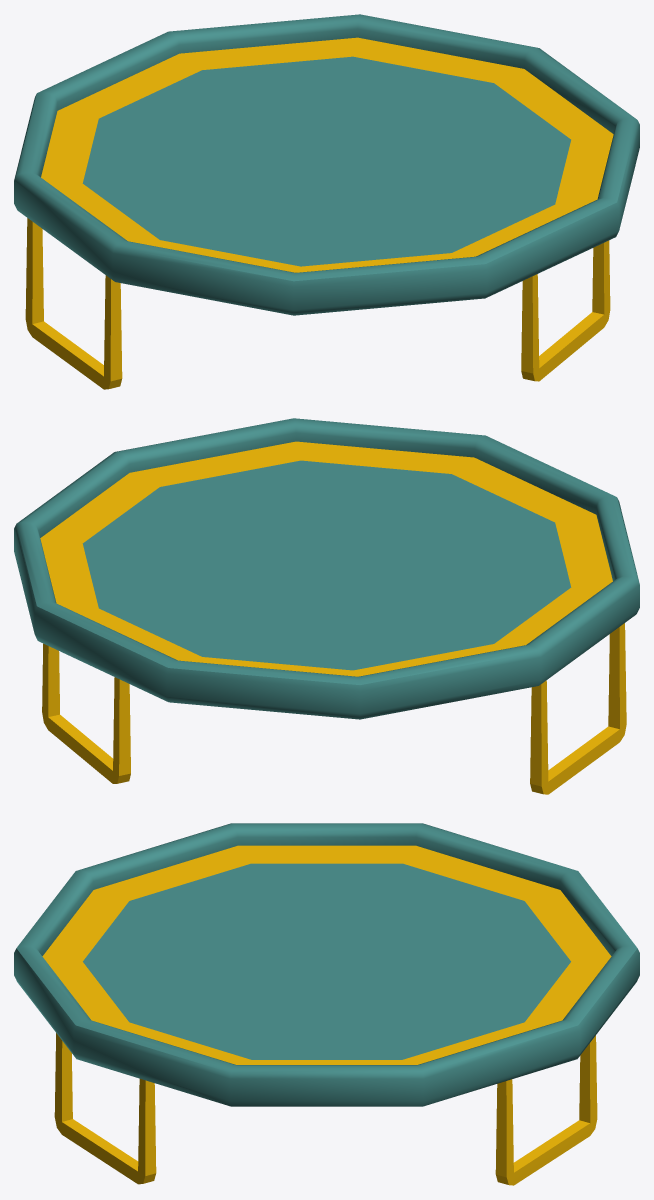
Rendered from Jump Place_2.fbx.
3 renders of one model, top to bottom at view 1: azimuth 30°, elevation 25°; view 2: azimuth 150°, elevation 25°; view 3: azimuth 270°, elevation 25°, orthographic. The views are drawn at different scales.
Parts seen in each view (by area): view 1: Jump Place_2; view 2: Jump Place_2; view 3: Jump Place_2.
Part boxes in pixels (left/top/right/bottom): Jump Place_2: left=14, top=14, right=639, bottom=389; Jump Place_2: left=14, top=418, right=639, bottom=794; Jump Place_2: left=14, top=823, right=639, bottom=1185.
Bounding box in the file's own units: 1.34 × 0.3787 × 1.41.
